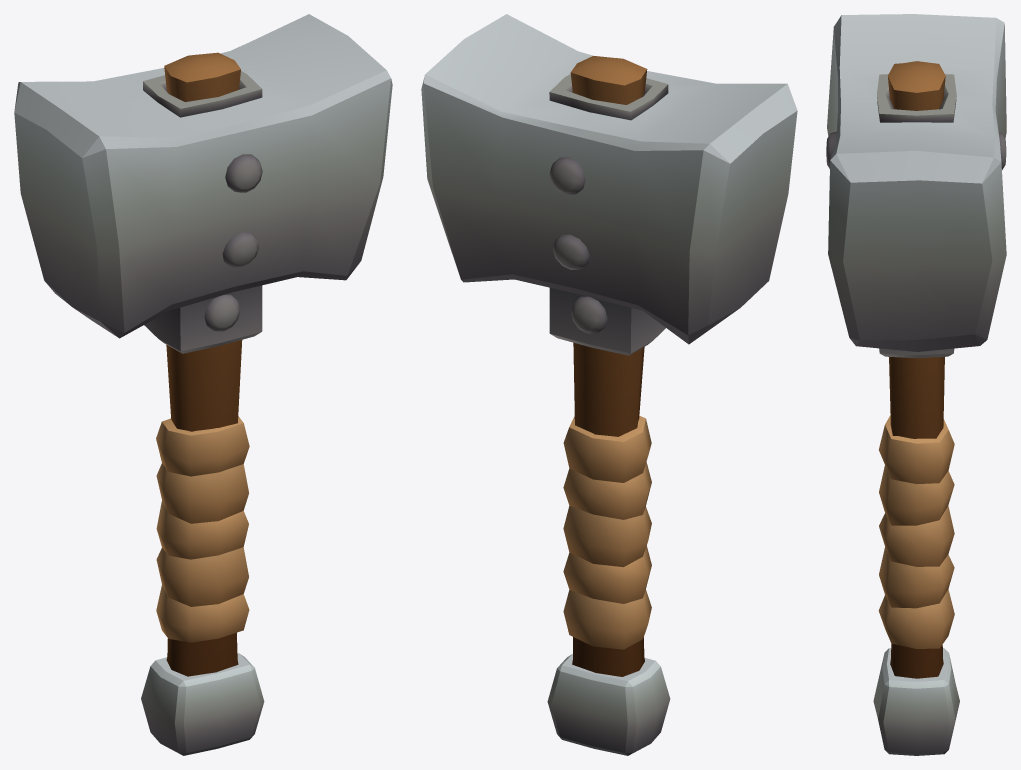
File: Hammer_05.glb
3 renders of one model, left to right at view 1: azimuth 30°, elevation 25°; view 2: azimuth 150°, elevation 25°; view 3: azimuth 270°, elevation 25°, orthographic.
Visible parts, largest first — view 1: Hammer_05; view 2: Hammer_05; view 3: Hammer_05.
Part boxes in pixels (left/top/right/bottom): Hammer_05: left=14, top=14, right=392, bottom=755; Hammer_05: left=421, top=14, right=797, bottom=755; Hammer_05: left=826, top=14, right=1006, bottom=755.
Size of the model in its own units: 0.5263 by 1.08 by 0.2641.
1 material, 1 textured.
